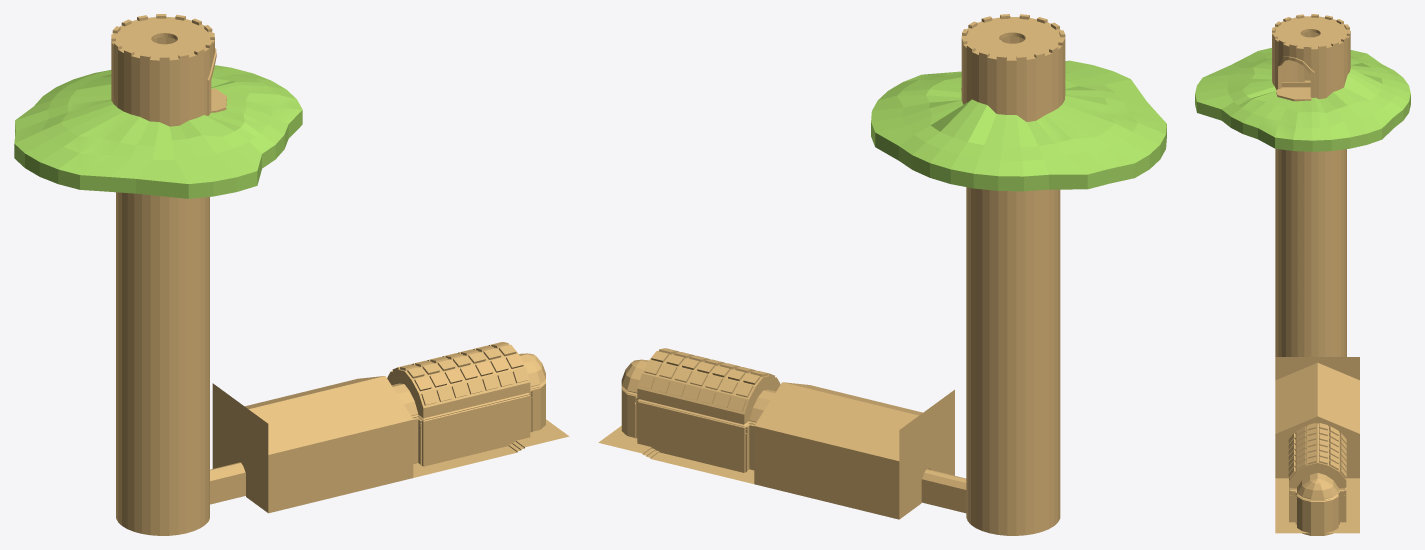
File: sintra_ruina_4.fbx
3 views of the same model, side by side, from view 1: azimuth 30°, elevation 25°; view 2: azimuth 150°, elevation 25°; view 3: azimuth 270°, elevation 25° (orthographic). The views are drawn at different scales.
Visible parts, largest first — view 1: Parede, Parede escadas, Ilha, Parede escadas.001, chao, Parede base; view 2: Parede, Parede escadas, Ilha, Parede escadas.001, chao, Parede base; view 3: Parede escadas, Ilha, Parede, Parede escadas.001, chao, Escadas com colunas final.001.
Part boxes in pixels (box(x1,y1,x2,y2)): Parede: box(245, 342, 545, 513); Parede escadas: box(116, 192, 209, 493); Ilha: box(14, 65, 302, 198); Parede escadas.001: box(111, 14, 216, 126); chao: box(212, 383, 569, 512); Parede base: box(116, 462, 245, 535); Parede: box(621, 348, 922, 519); Parede escadas: box(966, 187, 1060, 493); Ilha: box(871, 60, 1166, 191); Parede escadas.001: box(961, 14, 1065, 121); chao: box(598, 389, 954, 519); Parede base: box(921, 468, 1060, 535); Parede escadas: box(1275, 148, 1346, 356); Ilha: box(1195, 48, 1410, 151); Parede: box(1275, 363, 1359, 535); Parede escadas.001: box(1272, 14, 1350, 98); chao: box(1275, 357, 1359, 533); Escadas com colunas final.001: box(1276, 80, 1311, 101).
Bounding box in the file's own units: 13992 × 12610 × 6634.
